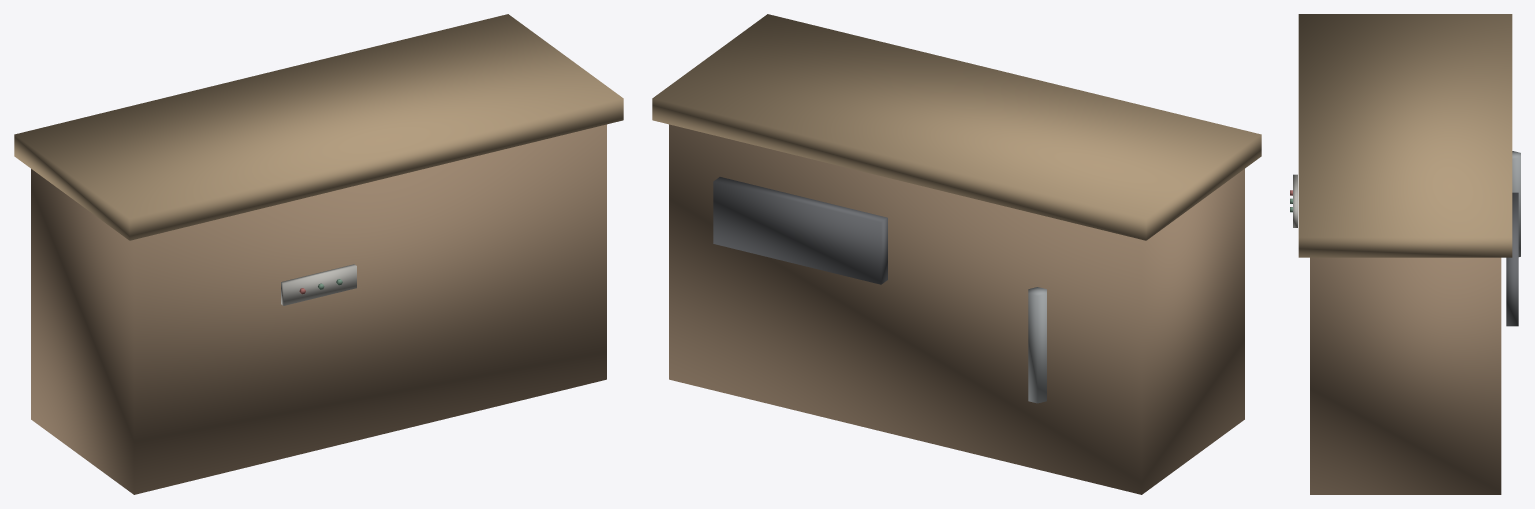
The model's file is clinic_reception_counter__service.glb.
3 renders of one model, left to right at view 1: azimuth 30°, elevation 25°; view 2: azimuth 150°, elevation 25°; view 3: azimuth 270°, elevation 25°, orthographic. The views are drawn at different scales.
Parts seen in each view (by area): view 1: world; view 2: world; view 3: world.
Boxes of the visible parts, x1=… form: world: x1=14, y1=14, x2=623, y2=494; world: x1=652, y1=14, x2=1261, y2=494; world: x1=1290, y1=14, x2=1520, y2=494.
Size of the model in its own units: 1.88 by 1.03 by 0.8213.
